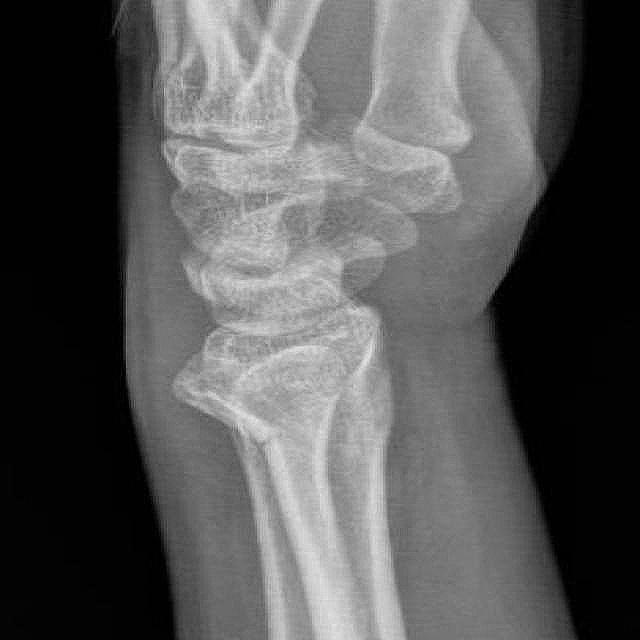bone: (164, 258, 432, 592)
